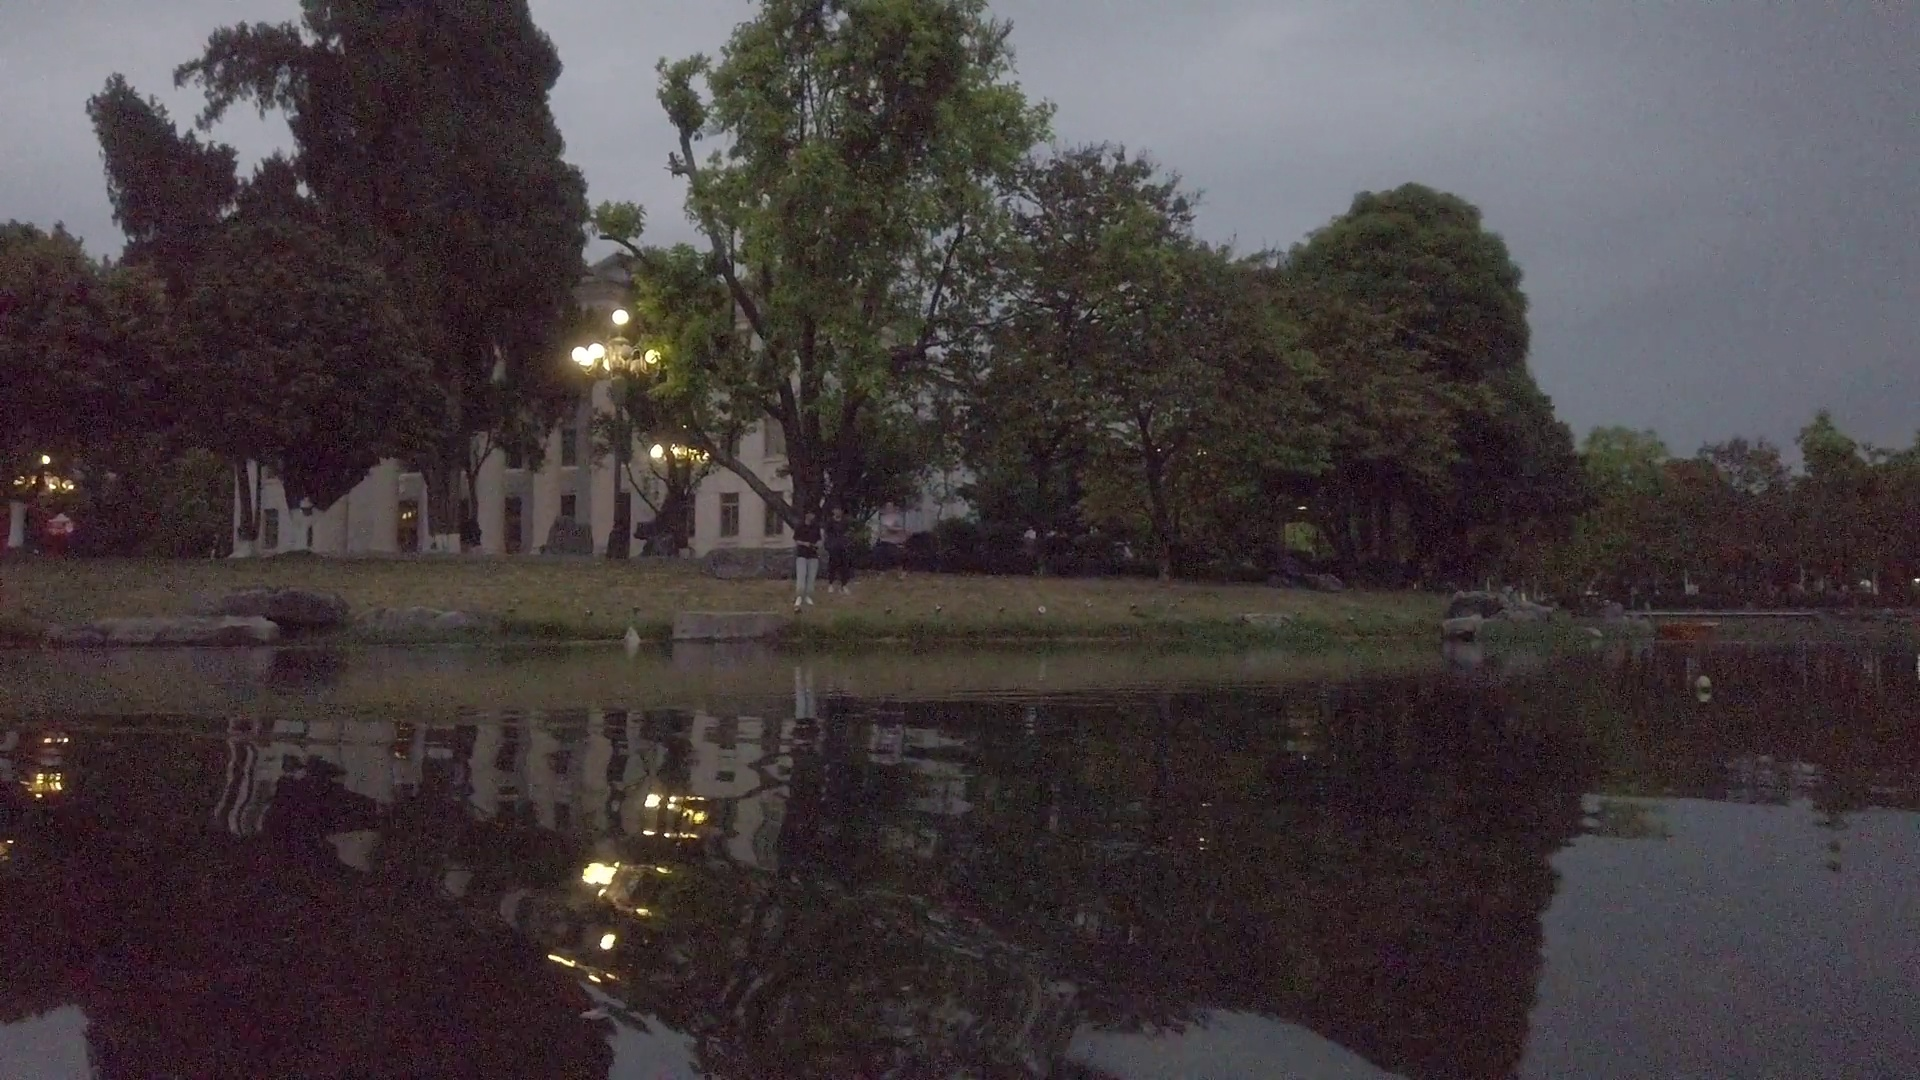bottle: (1692, 673, 1712, 694)
